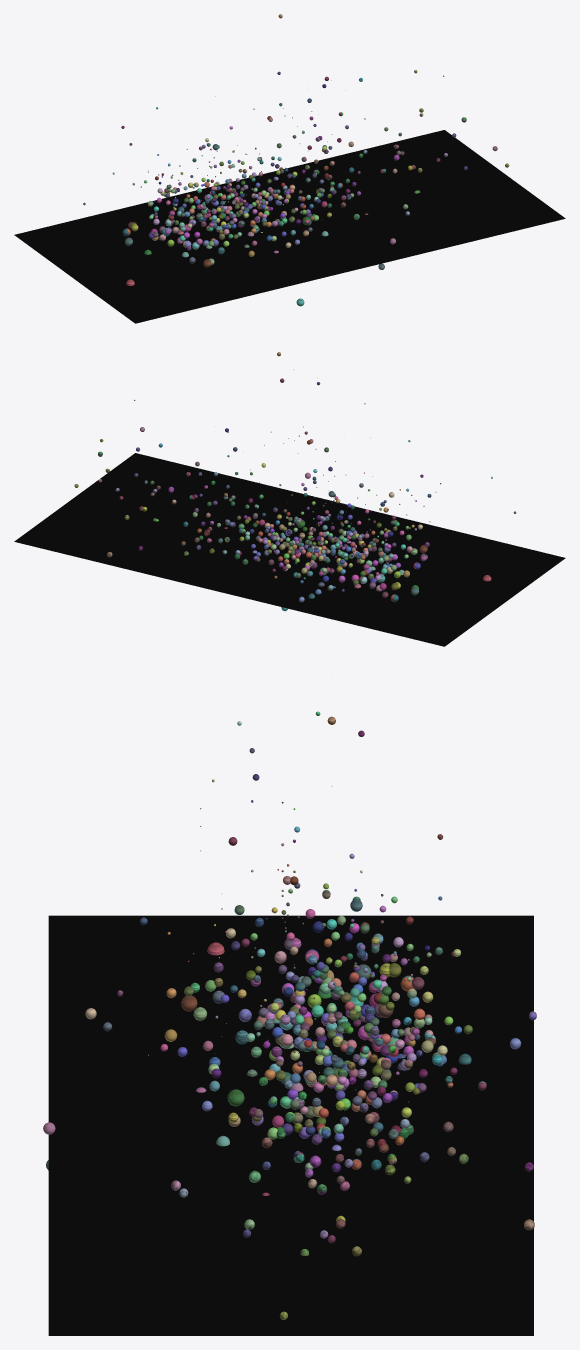
File: exoplanets.glb
The picture shows the model from 3 angles, top to bottom: view 1: azimuth 30°, elevation 25°; view 2: azimuth 150°, elevation 25°; view 3: azimuth 270°, elevation 25°; orthographic projection. The views are drawn at different scales.
Visible parts, largest first — view 1: Object_13, Object_10; view 2: Object_13, Object_10; view 3: Object_13, Object_10.
Boxes of the visible parts, left/top/right/bottom form: Object_13: left=14, top=130, right=565, bottom=323; Object_10: left=83, top=70, right=509, bottom=306; Object_13: left=14, top=453, right=565, bottom=646; Object_10: left=74, top=378, right=516, bottom=611; Object_13: left=48, top=915, right=533, bottom=1335; Object_10: left=43, top=711, right=536, bottom=1319.
Size of the model in its own units: 2.68 by 1.55 by 1.32.
Materials: 5 (5 with a texture image).
